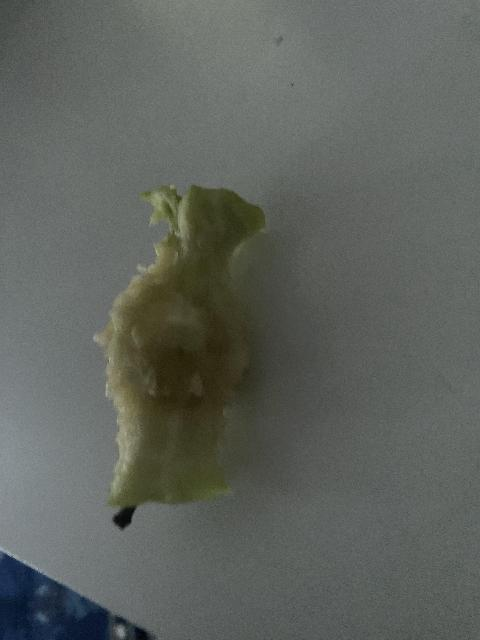Organik: (84, 189, 283, 527)
